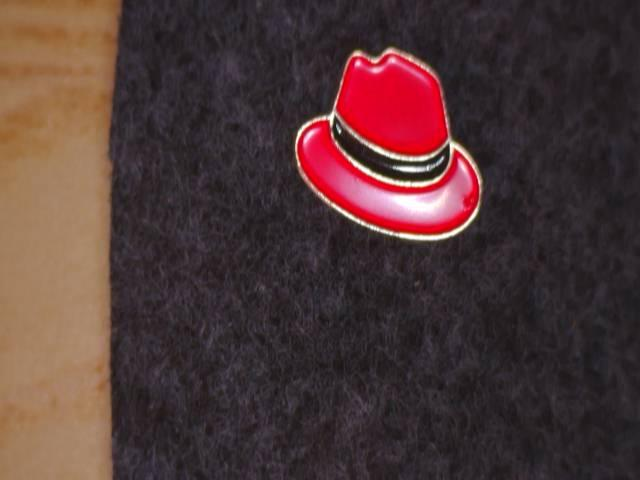Red-Hat: (264, 23, 509, 286)
